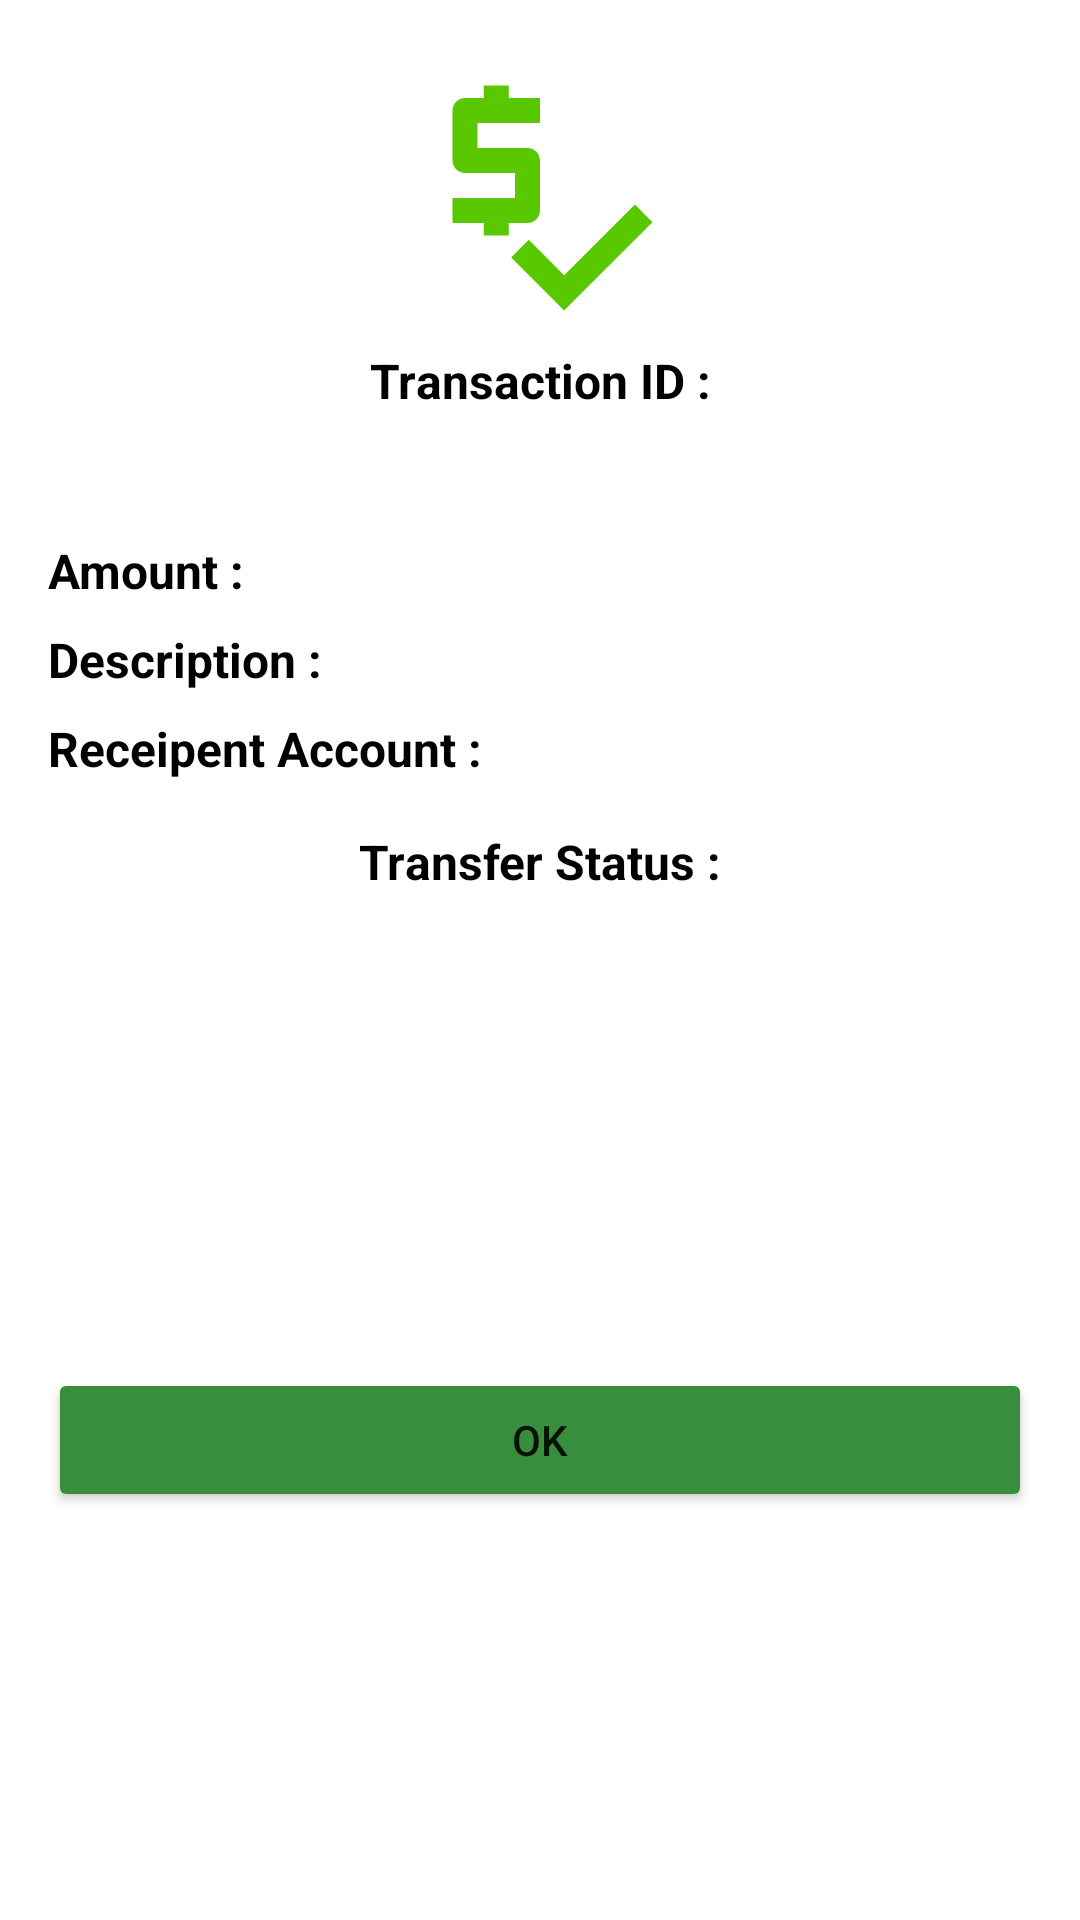

Icon bounding boxes for this 1080x1920 phone screenshot, format [left=x1, top=y1, right=x2, bottom=y2]:
price check: [left=452, top=85, right=653, bottom=311]
